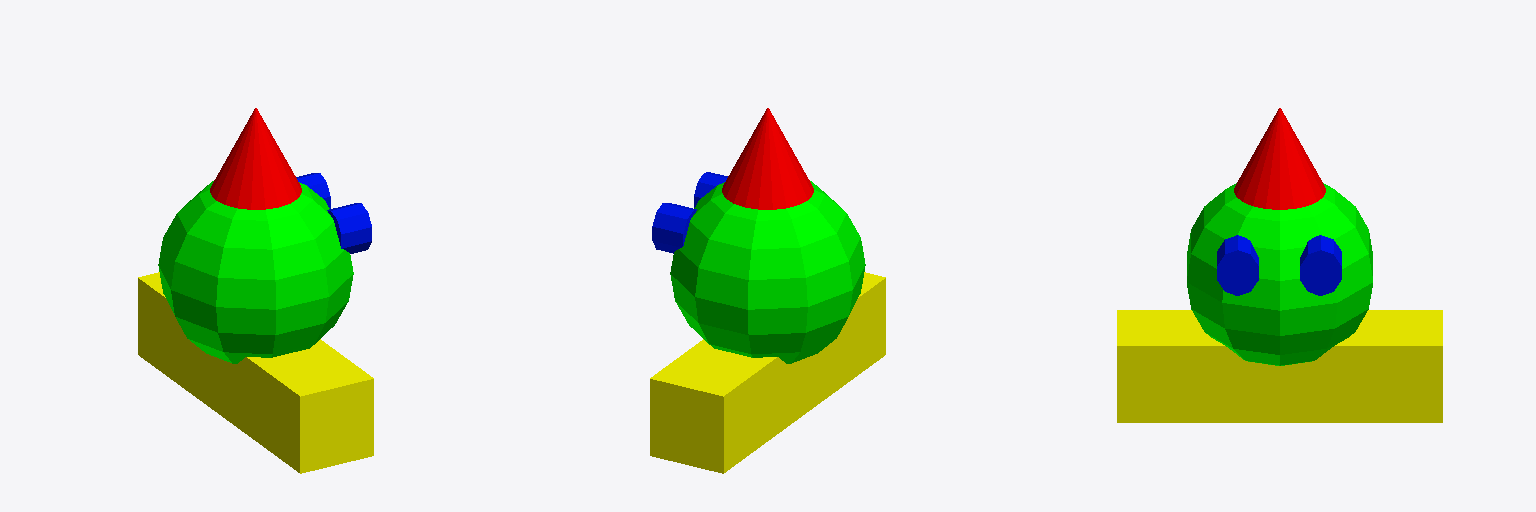
The model's file is birthdayBoy.obj.
3 renders of one model, left to right at view 1: azimuth 30°, elevation 25°; view 2: azimuth 150°, elevation 25°; view 3: azimuth 270°, elevation 25°, orthographic.
Visible parts, largest first — view 1: pSphere1, pCube1, pCone1, pCylinder1, pCylinder2; view 2: pSphere1, pCube1, pCone1, pCylinder2; view 3: pCube1, pSphere1, pCone1, pCylinder1, pCylinder2.
Part boxes in pixels (x1,y1,x2,y2): pSphere1: (158, 181, 353, 363); pCube1: (138, 272, 373, 473); pCone1: (210, 108, 301, 209); pCylinder1: (327, 203, 371, 253); pCylinder2: (296, 173, 330, 208); pSphere1: (670, 181, 865, 363); pCube1: (650, 272, 885, 473); pCone1: (722, 108, 813, 209); pCylinder2: (652, 203, 696, 253); pCube1: (1117, 310, 1442, 422); pSphere1: (1187, 183, 1372, 365); pCone1: (1234, 108, 1325, 209); pCylinder1: (1217, 235, 1258, 295); pCylinder2: (1300, 235, 1341, 295).
Bounding box in the file's own units: 2.37 × 3.97 × 3.92.